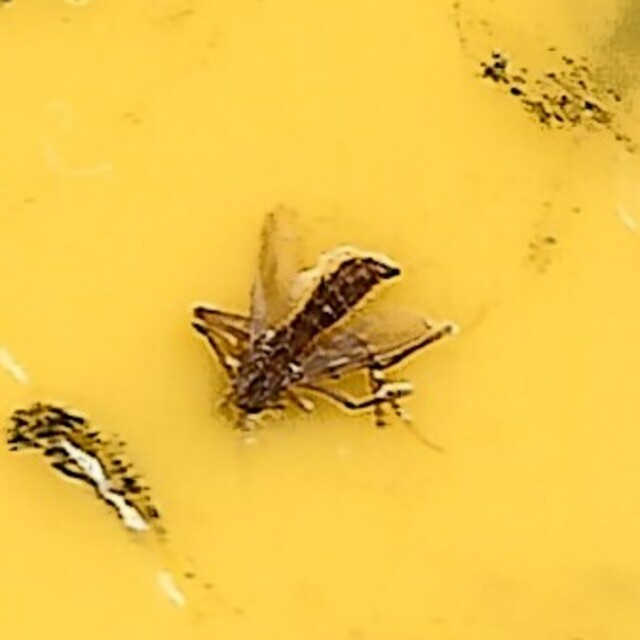Nematocera: (190, 195, 450, 445)
